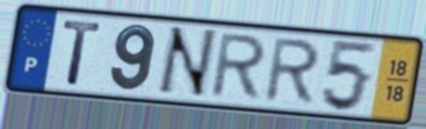5: (320, 37, 381, 114)
9: (107, 21, 158, 95)
N: (152, 24, 220, 101)
R: (206, 32, 270, 103), (260, 37, 324, 107)
T: (60, 18, 106, 88)
